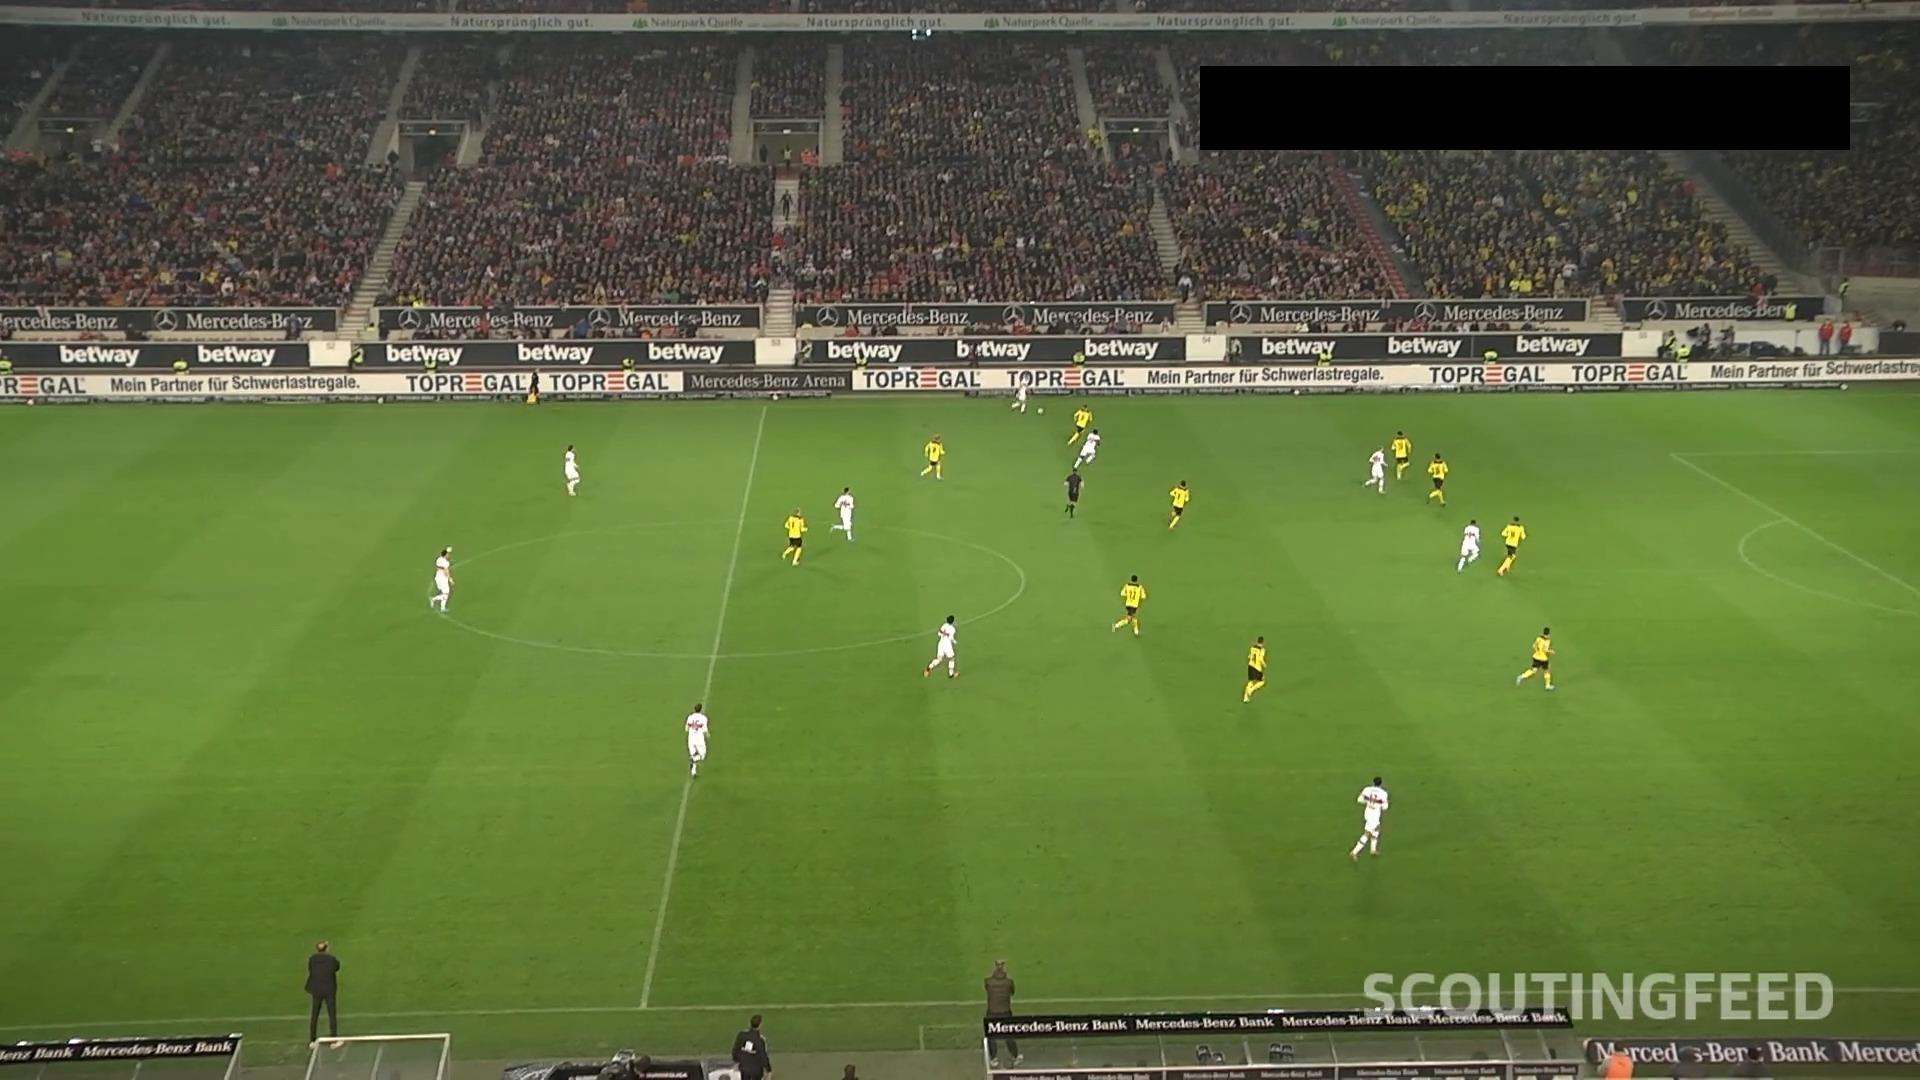ball: (1036, 406, 1046, 417)
